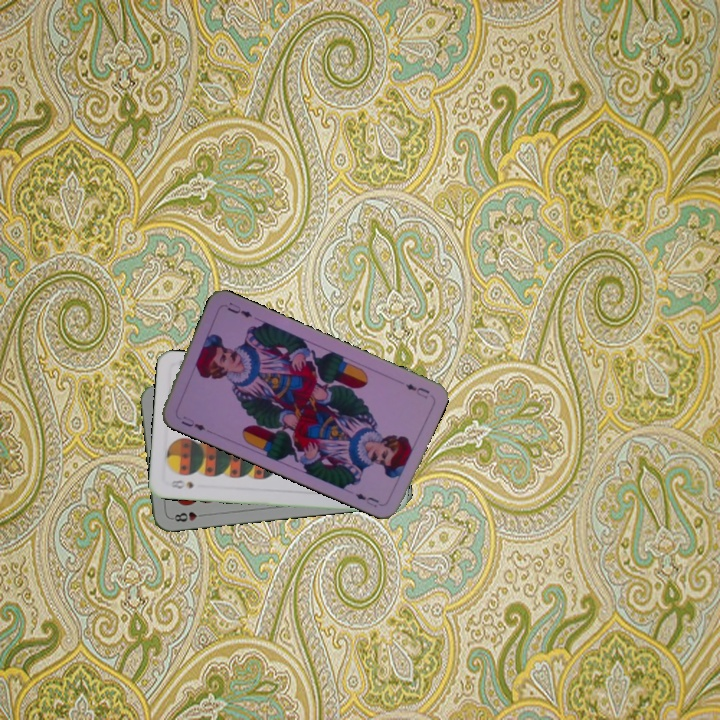EU: (401, 379, 432, 401), (177, 412, 208, 433)
H8: (168, 508, 208, 525)
S8: (166, 476, 196, 491)
